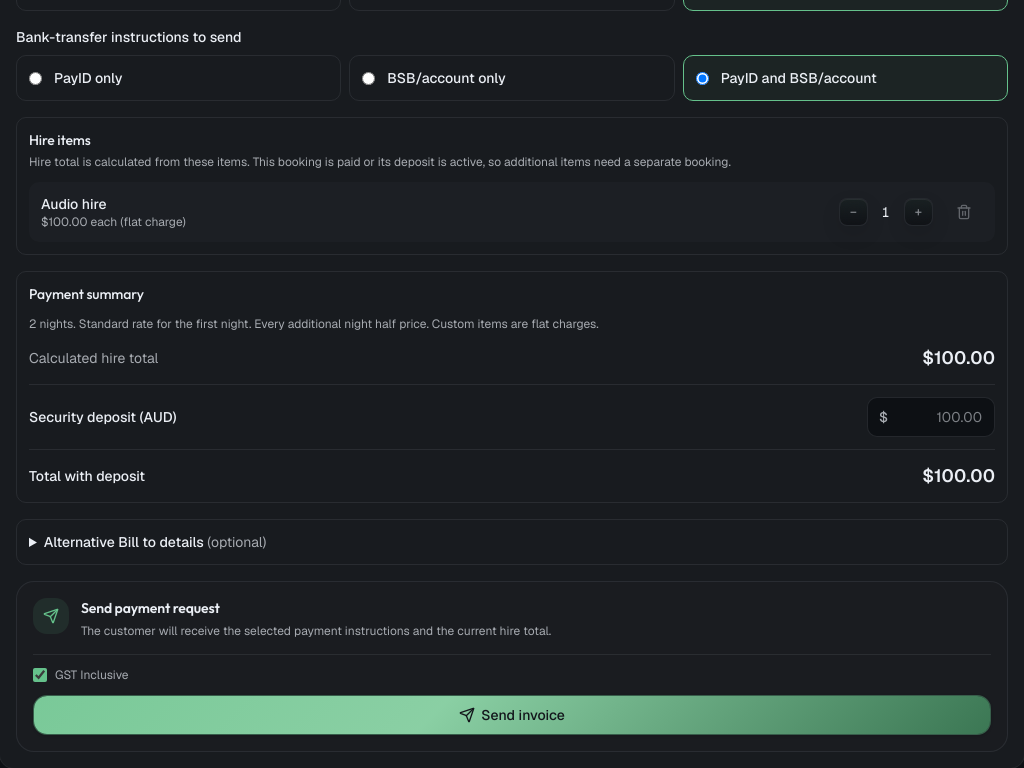
AdminPaymentPanel › resends the current invoice for a settled booking through the same button
This screenshot has width=1024, height=768.
(page scrolled)
What coordinates should you click on to do the following:
click the button "Send invoice"
I would click on:
 (512, 714)
Its box is [33,694,991,734].
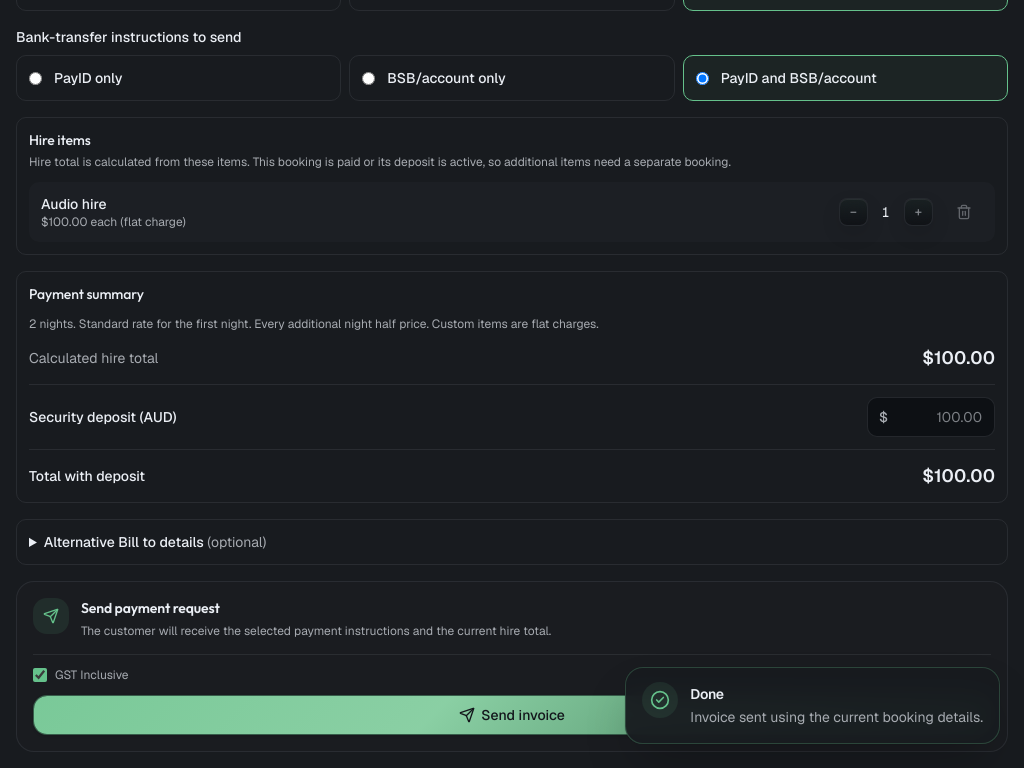
Expected: the text "Invoice sent using the current booking details." is shown, [690,706,983,729]
